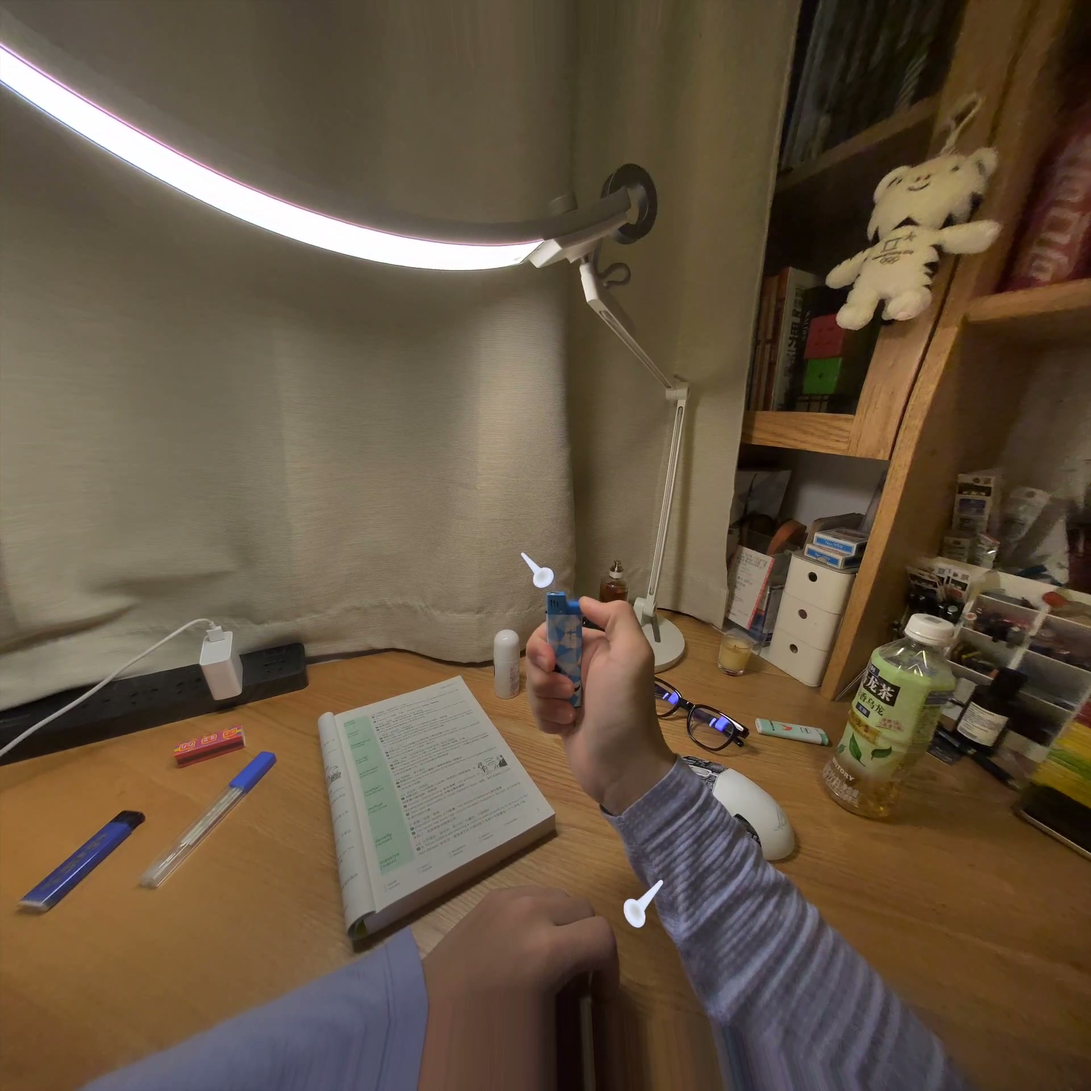lighter: (546, 592, 582, 707)
